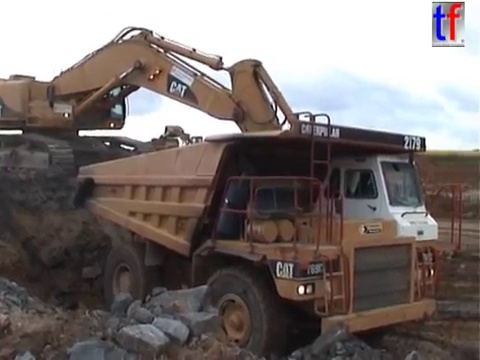excavator: (1, 23, 311, 218)
truck: (73, 108, 443, 357)
wheel loader: (160, 123, 211, 165)
